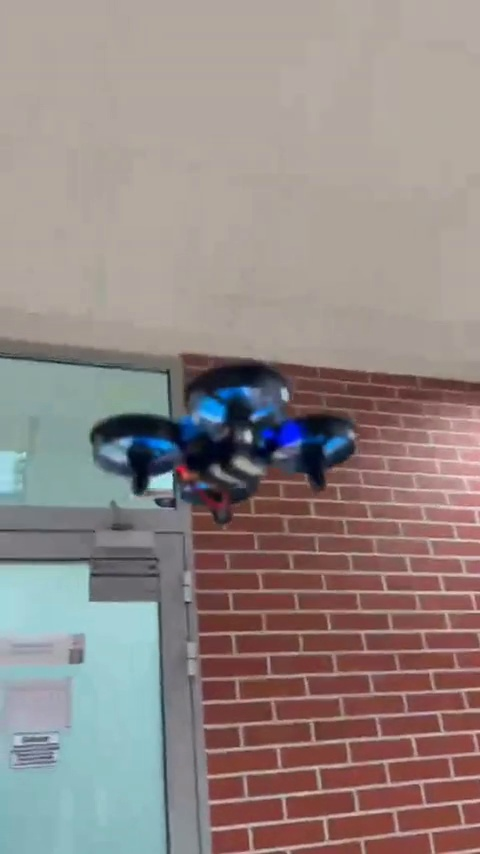drone: (90, 363, 363, 526)
